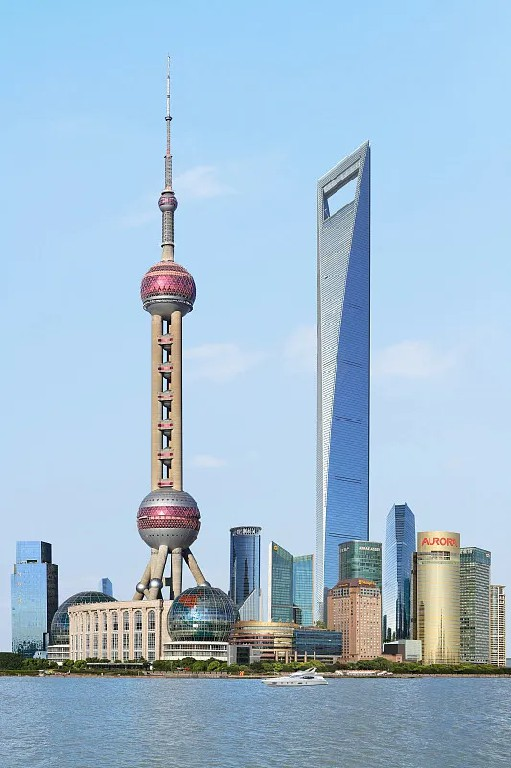Oriental: (131, 54, 210, 601)
